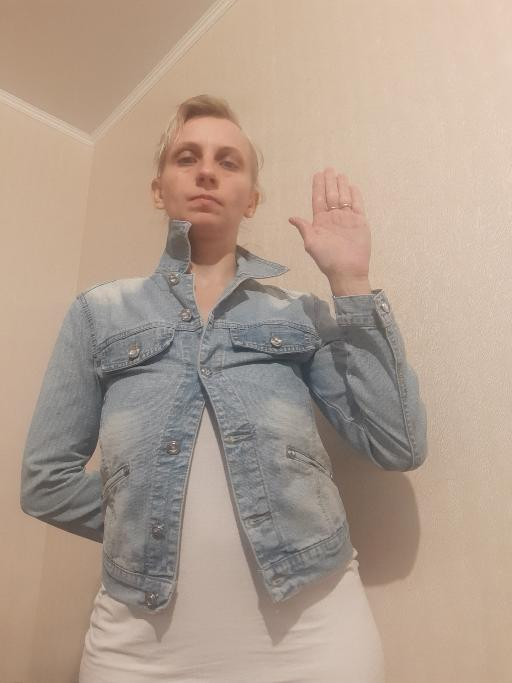stop: (286, 164, 373, 280)
